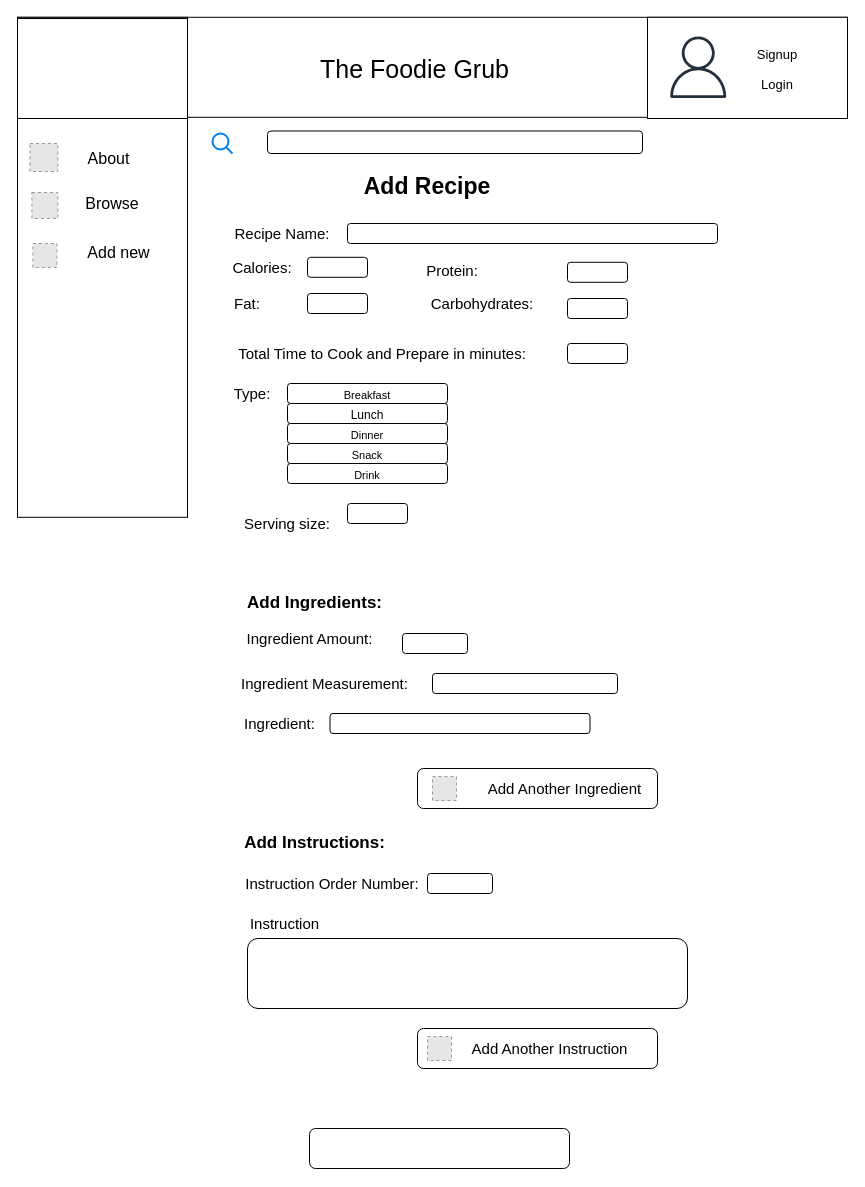
This 865x1187 diagram has some shape labels left out. Grey dashed boxes stand in for pictures. The box of each missing label's shape, as (x1, y1, x2, y2) in pixels:
LOGO: (16, 18, 188, 118)
Post Complete Recipe: (308, 1128, 570, 1168)
